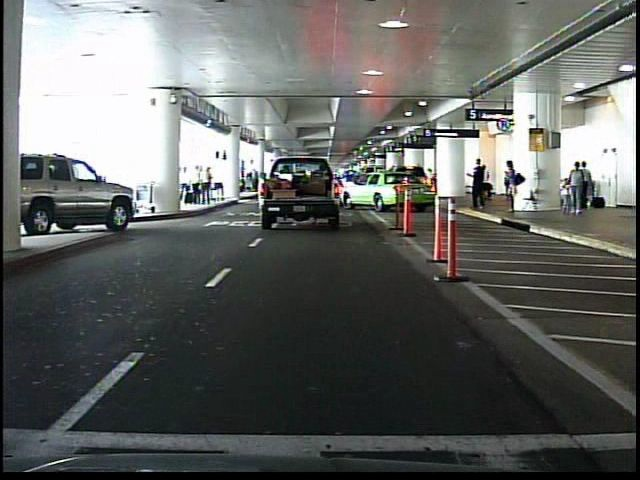person: (503, 155, 524, 216), (468, 154, 489, 212), (482, 159, 496, 210)
